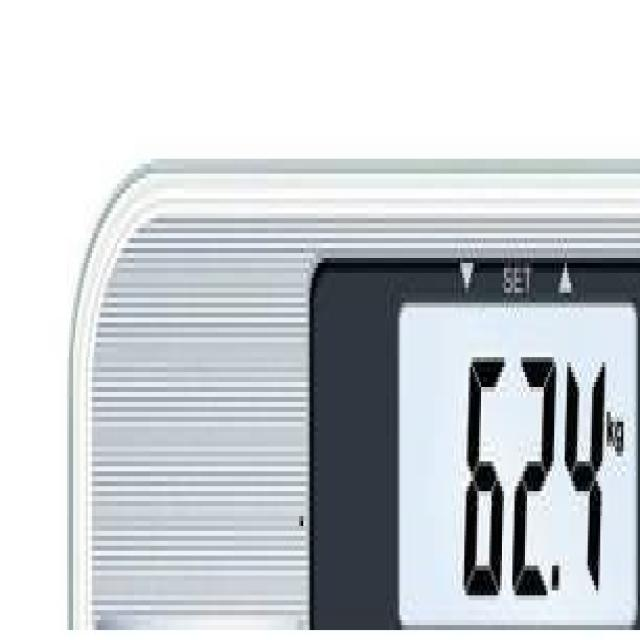.: (548, 560, 564, 598)
2: (511, 354, 558, 594)
4: (565, 355, 607, 593)
6: (463, 333, 508, 614)
